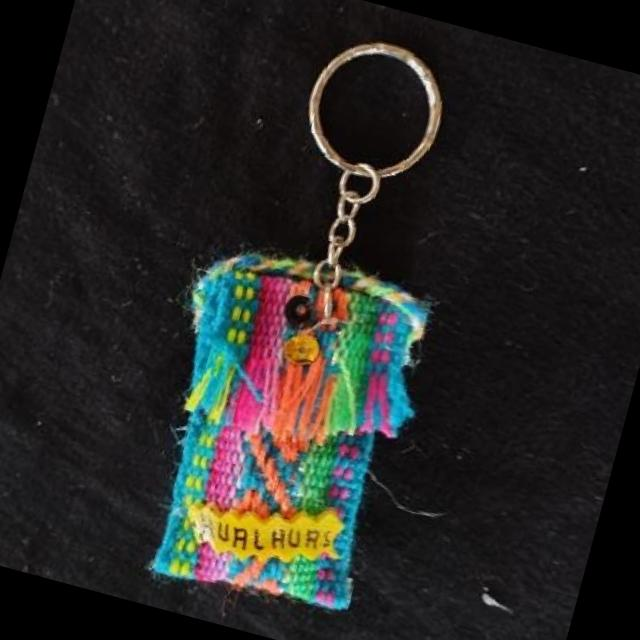Llavero: (116, 225, 450, 630)
